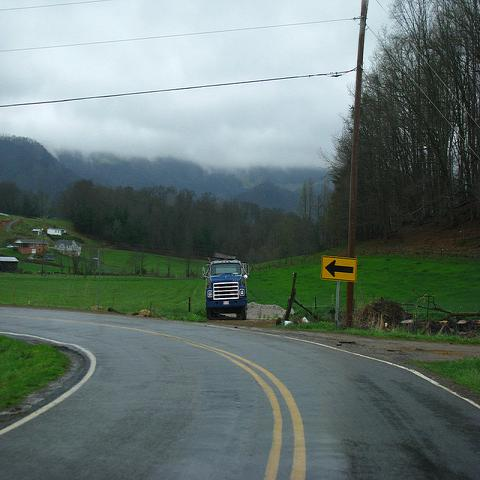car: (36, 253, 43, 258)
truck: (205, 263, 248, 319)
